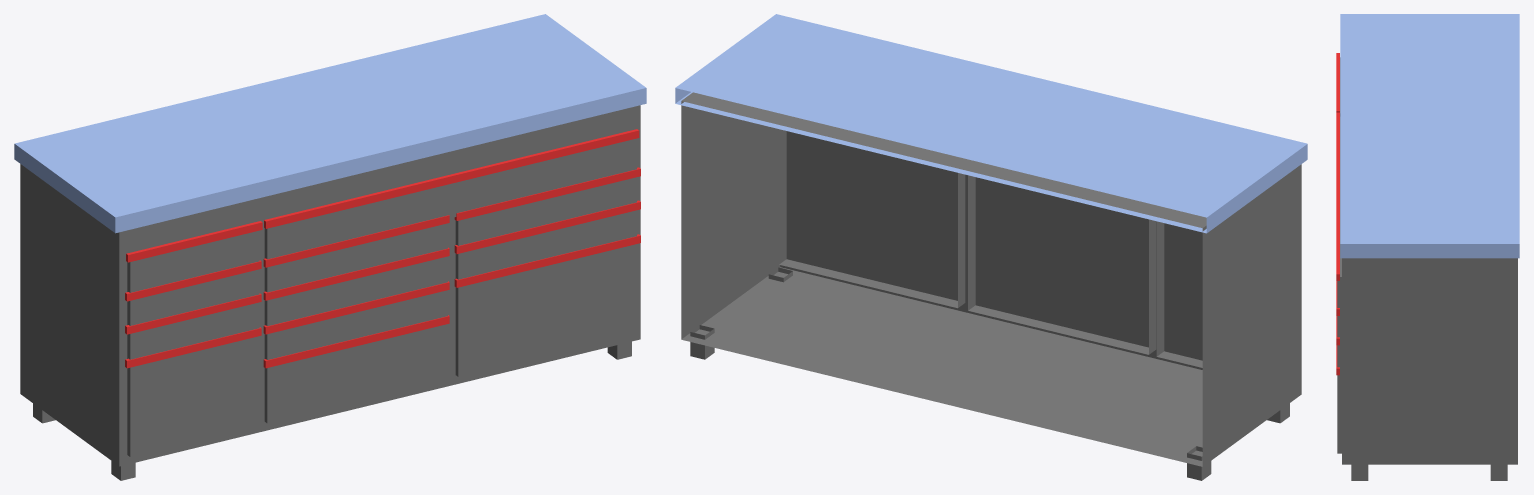
Rendered from bigtable.fbx.
3 views of the same model, side by side, from view 1: azimuth 30°, elevation 25°; view 2: azimuth 150°, elevation 25°; view 3: azimuth 270°, elevation 25° (orthographic). The views are drawn at different scales.
Parts seen in each view (by area): view 1: bigtable; view 2: bigtable; view 3: bigtable.
Part boxes in pixels (x1,y1,x2,y2): bigtable: (14,14,646,480); bigtable: (675,14,1307,480); bigtable: (1336,14,1519,480).
Bounding box in the file's own units: 3605 × 1757 × 1213.
